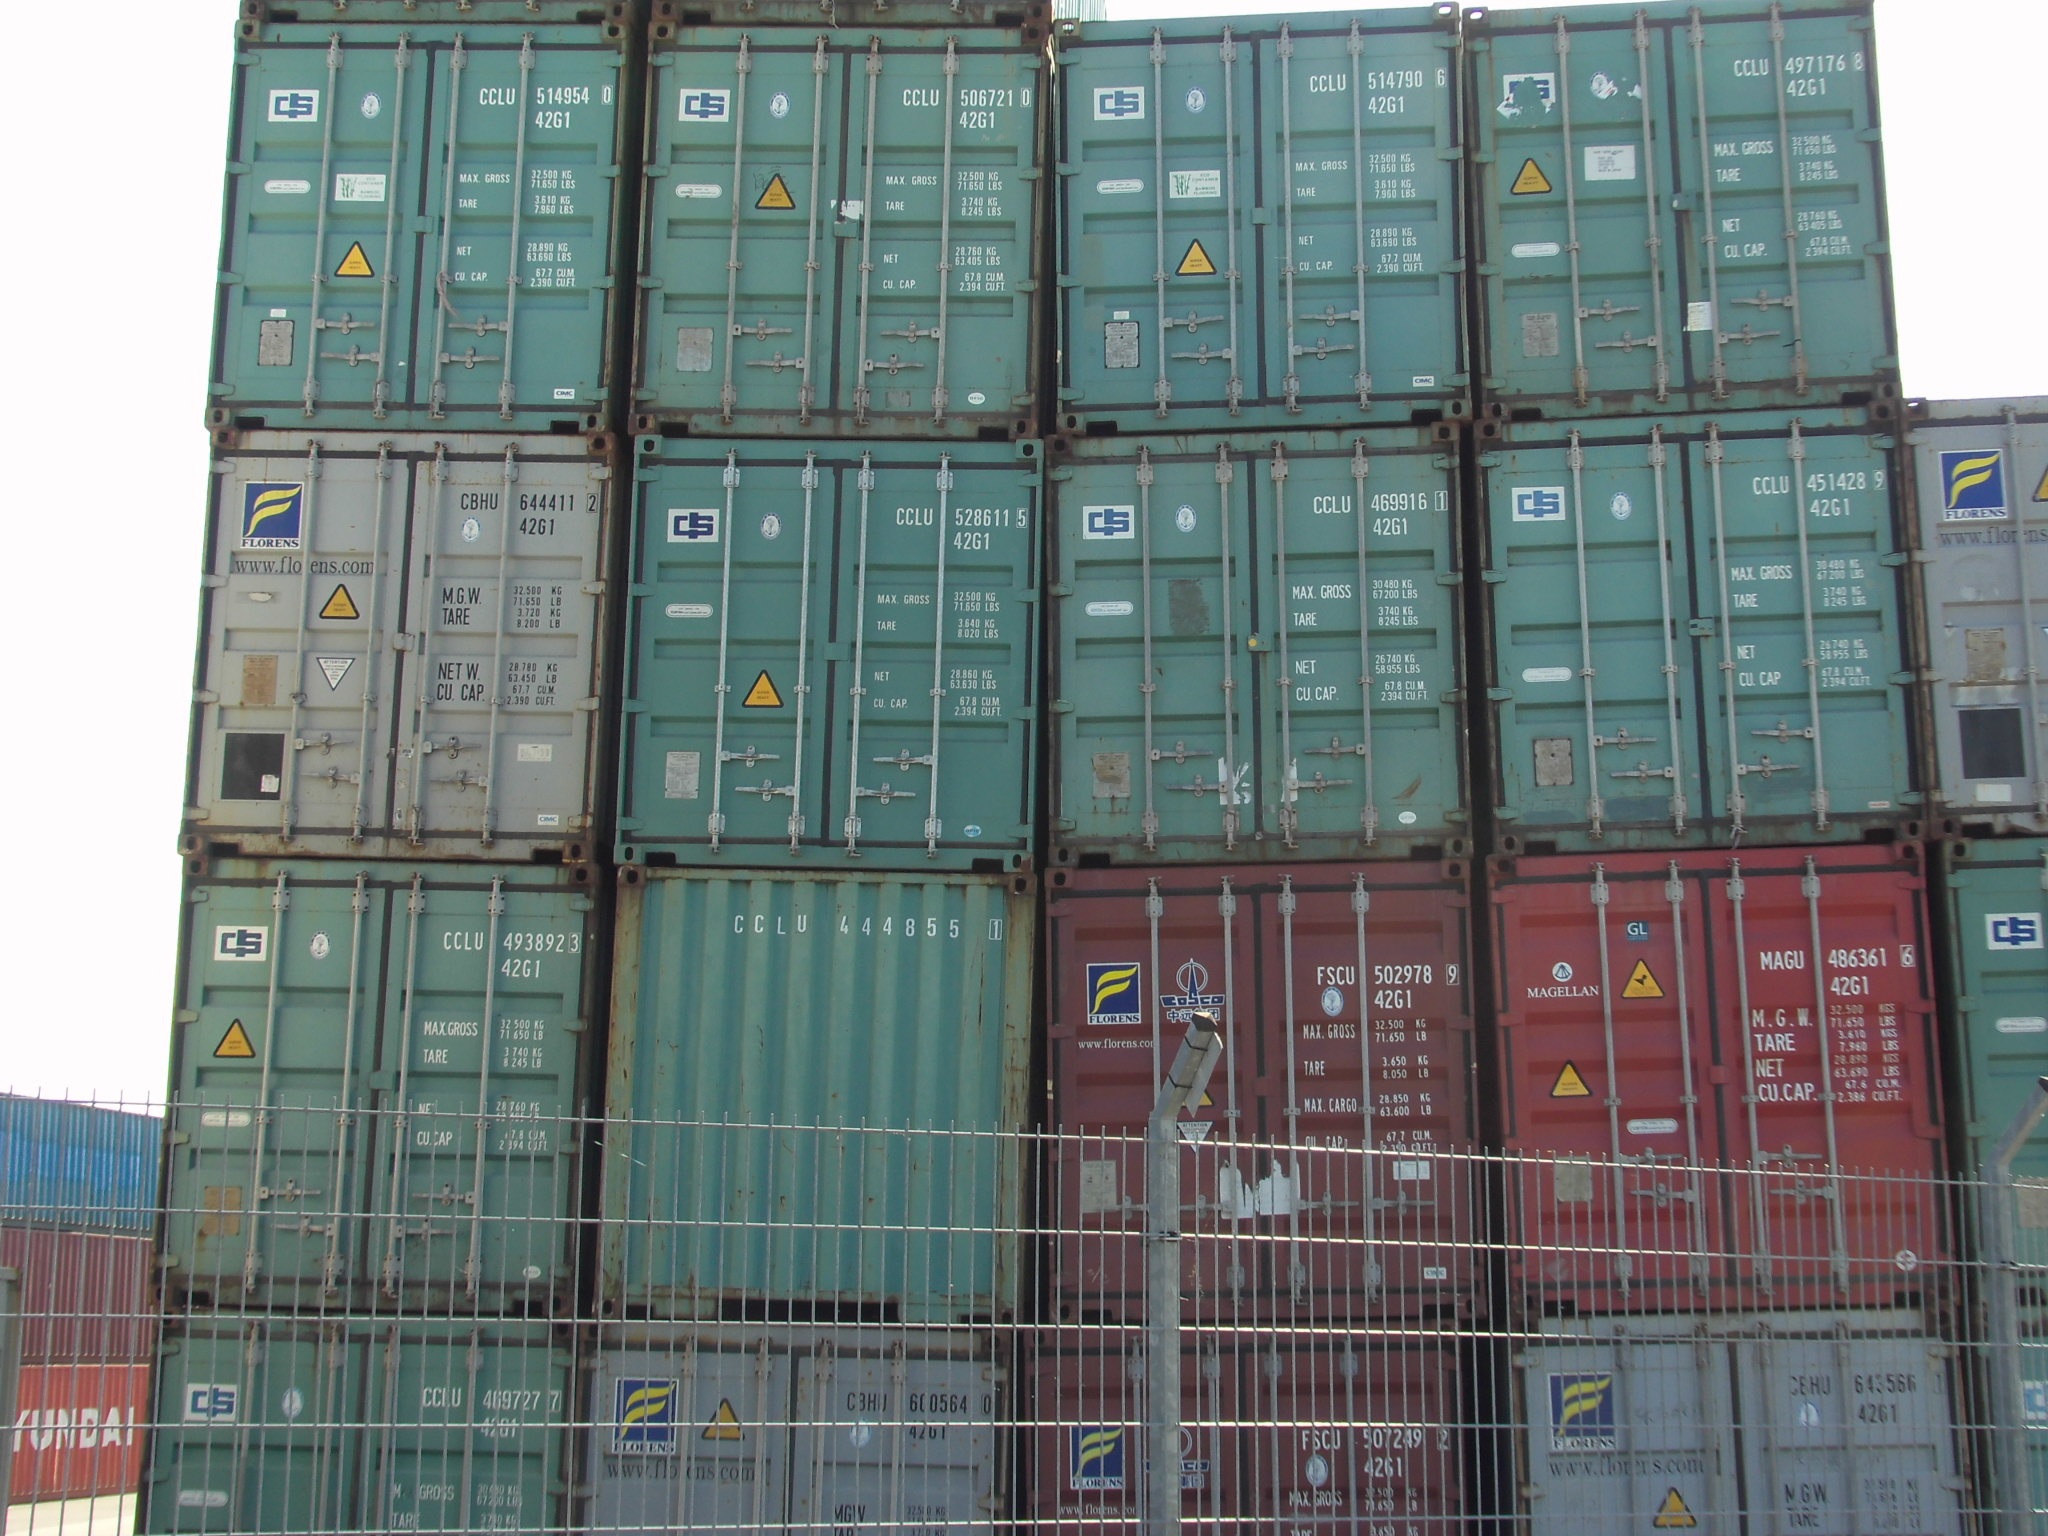container_door: (1496, 849, 1942, 1292), (168, 863, 576, 1317), (1055, 871, 1463, 1325), (631, 426, 1022, 865), (210, 419, 601, 858), (1501, 408, 1893, 845), (1071, 424, 1463, 862), (1071, 11, 1458, 411), (242, 11, 627, 411), (1495, 6, 1880, 407), (651, 32, 1035, 432)
container_no_door: (624, 886, 1024, 1329)
